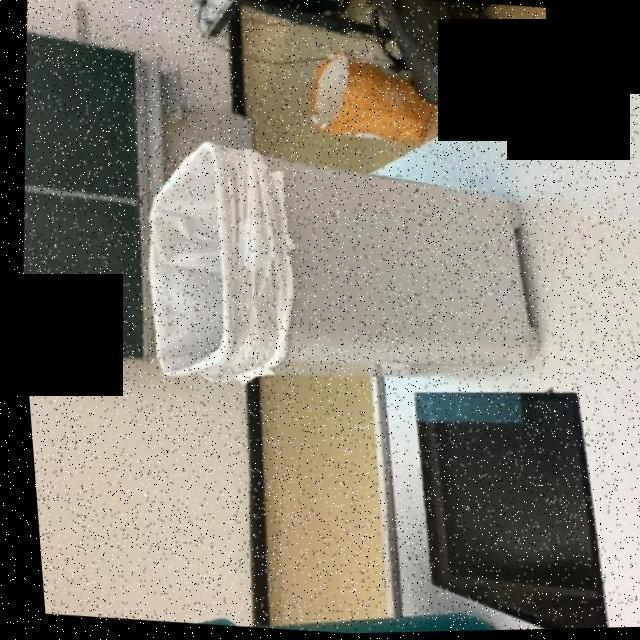bin: (105, 114, 565, 430)
